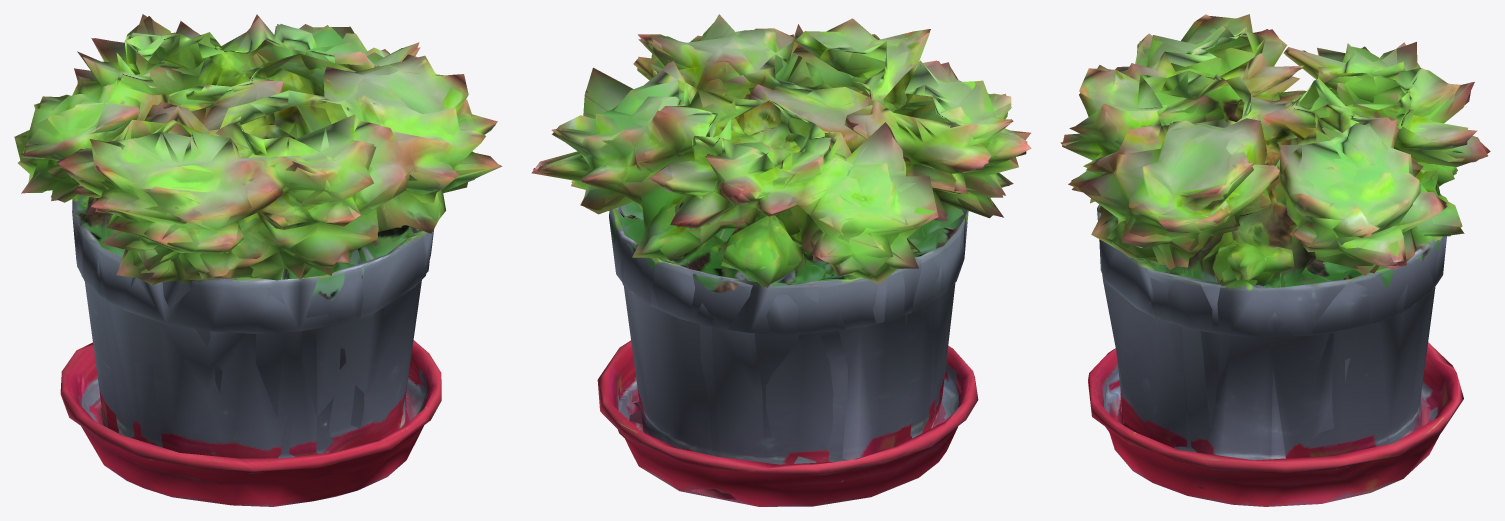
Rendered from Meshy_AI_plant_0301073454_texture.fbx.
3 views of the same model, side by side, from view 1: azimuth 30°, elevation 25°; view 2: azimuth 150°, elevation 25°; view 3: azimuth 270°, elevation 25° (orthographic). The views are drawn at different scales.
Parts seen in each view (by area): view 1: Mesh1.0; view 2: Mesh1.0; view 3: Mesh1.0.
Part boxes in pixels (x1,y1,x2,y2): Mesh1.0: [14, 14, 502, 506]; Mesh1.0: [531, 14, 1031, 506]; Mesh1.0: [1060, 14, 1490, 506].
Bounding box in the file's own units: 28.67 × 25 × 27.48.
1 material, 1 textured.
